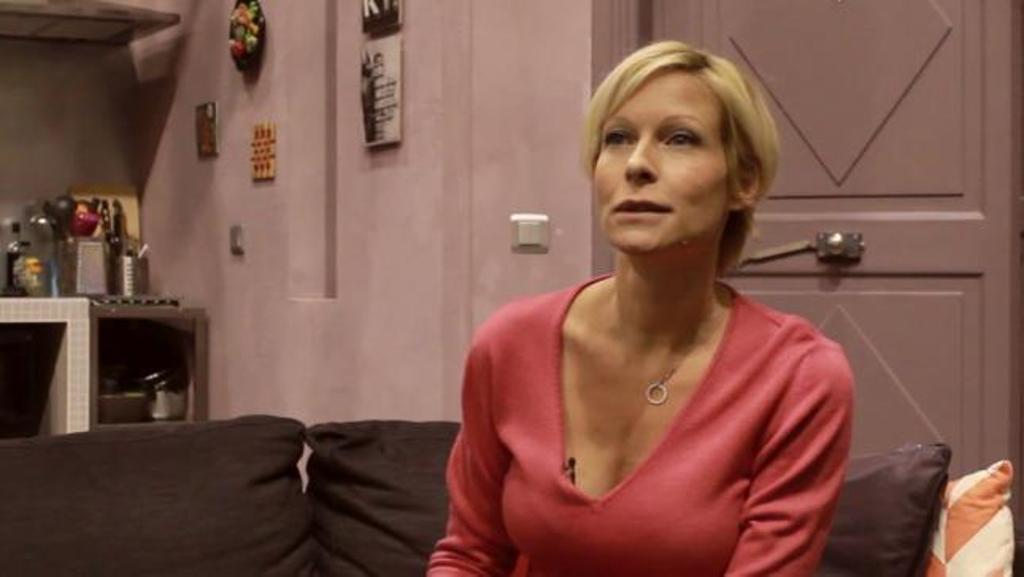face: (596, 68, 742, 248)
